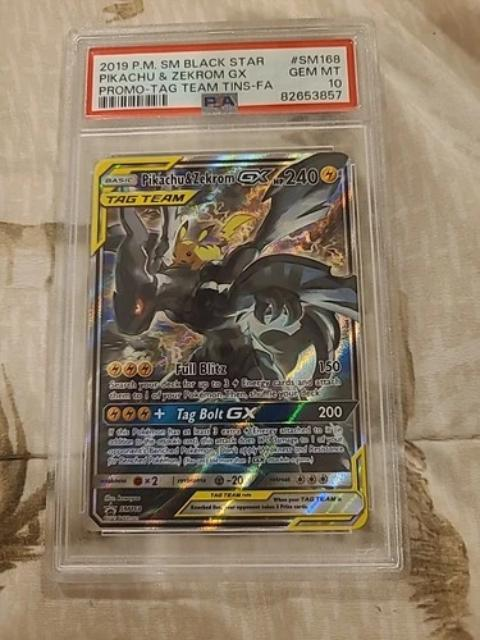Card: (79, 145, 373, 536)
Name: (136, 165, 288, 190)
